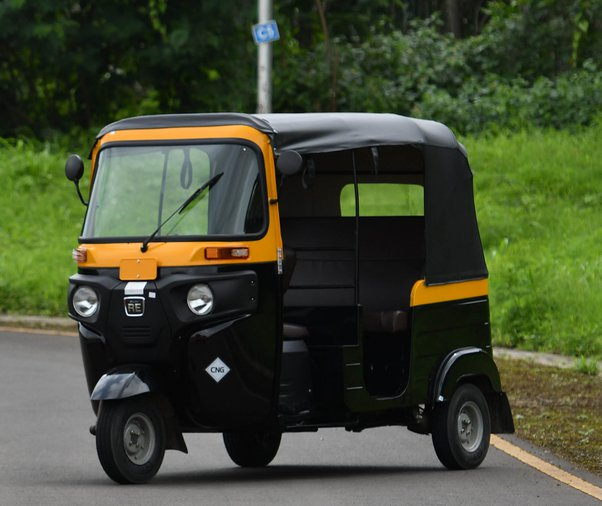auto: (52, 103, 527, 488)
